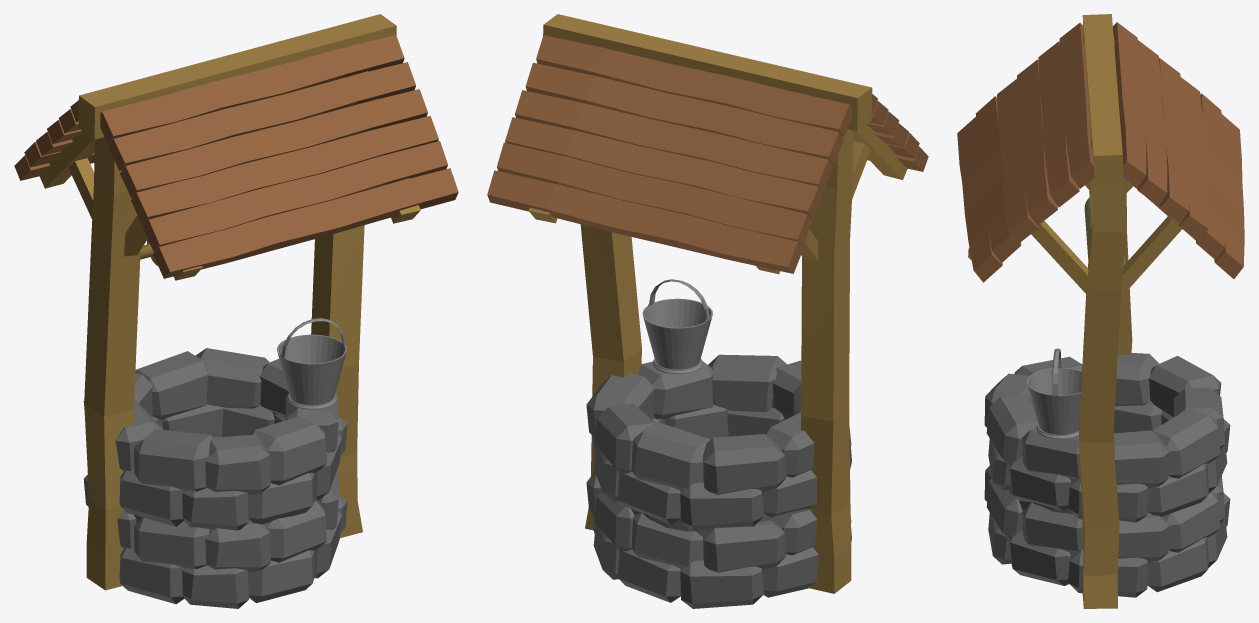
Rendered from well.glb.
3 renders of one model, left to right at view 1: azimuth 30°, elevation 25°; view 2: azimuth 150°, elevation 25°; view 3: azimuth 270°, elevation 25°, orthographic. The views are drawn at different scales.
Visible parts, largest first — view 1: Well.002; view 2: Well.002; view 3: Well.002.
Part boxes in pixels (bbox=[...]): Well.002: bbox=[14, 14, 458, 608]; Well.002: bbox=[487, 14, 928, 608]; Well.002: bbox=[957, 14, 1244, 608].
Size of the model in its own units: 2.45 by 3.77 by 2.07.
